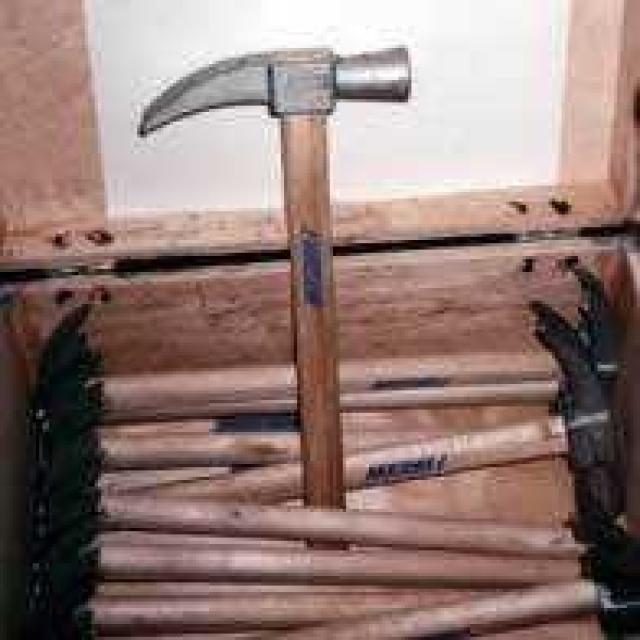hammer: (140, 45, 412, 555)
